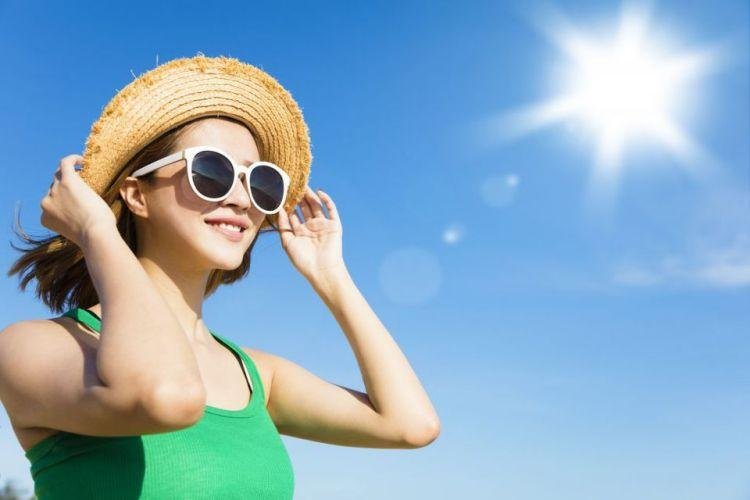cap: (36, 43, 333, 230)
sunglasses: (156, 139, 300, 221)
